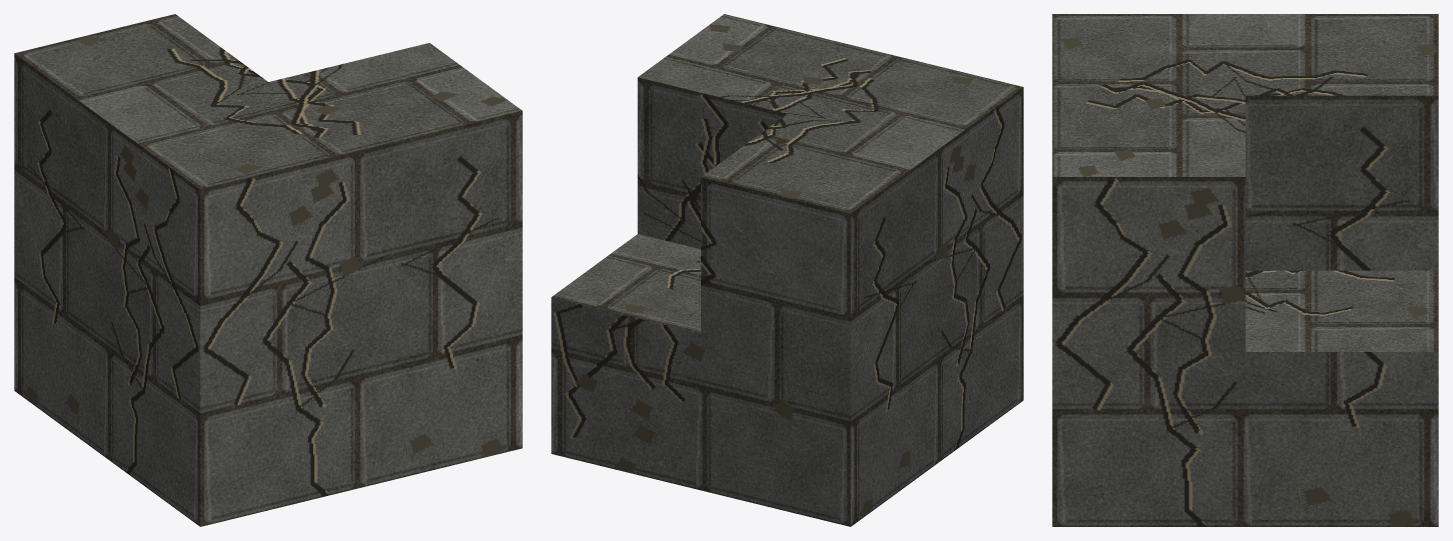
File: foundation_z2.glb
3 renders of one model, left to right at view 1: azimuth 30°, elevation 25°; view 2: azimuth 150°, elevation 25°; view 3: azimuth 270°, elevation 25°, orthographic. The views are drawn at different scales.
Parts seen in each view (by area): view 1: foundation_z2; view 2: foundation_z2; view 3: foundation_z2.
Boxes of the visible parts, left/top/right/bottom form: foundation_z2: left=14, top=14, right=522, bottom=526; foundation_z2: left=551, top=14, right=1023, bottom=526; foundation_z2: left=1052, top=14, right=1438, bottom=526.
Size of the model in its own units: 1 by 1 by 1.
1 material, 1 textured.
